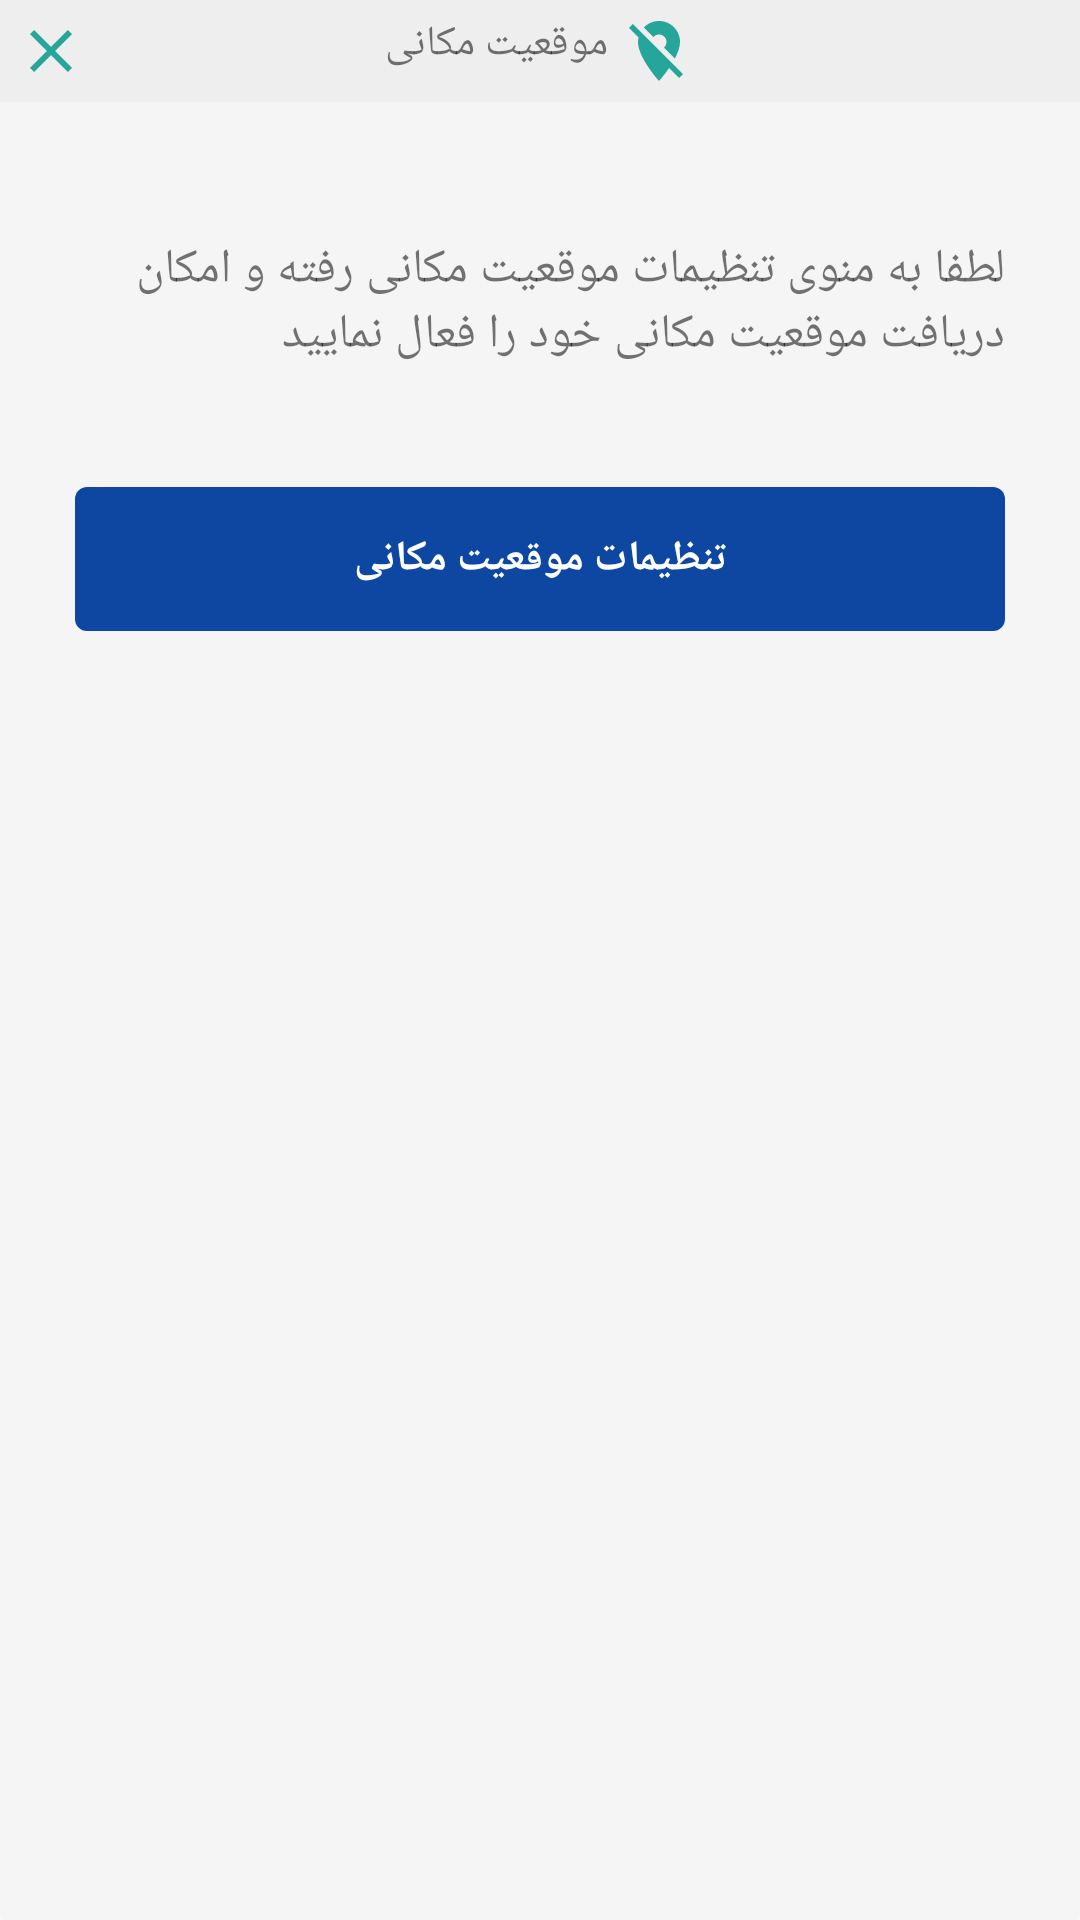

Where to tap for icons on this 1080px×1920px app screen, as (x=x, y=y):
close: (x=51, y=51)
